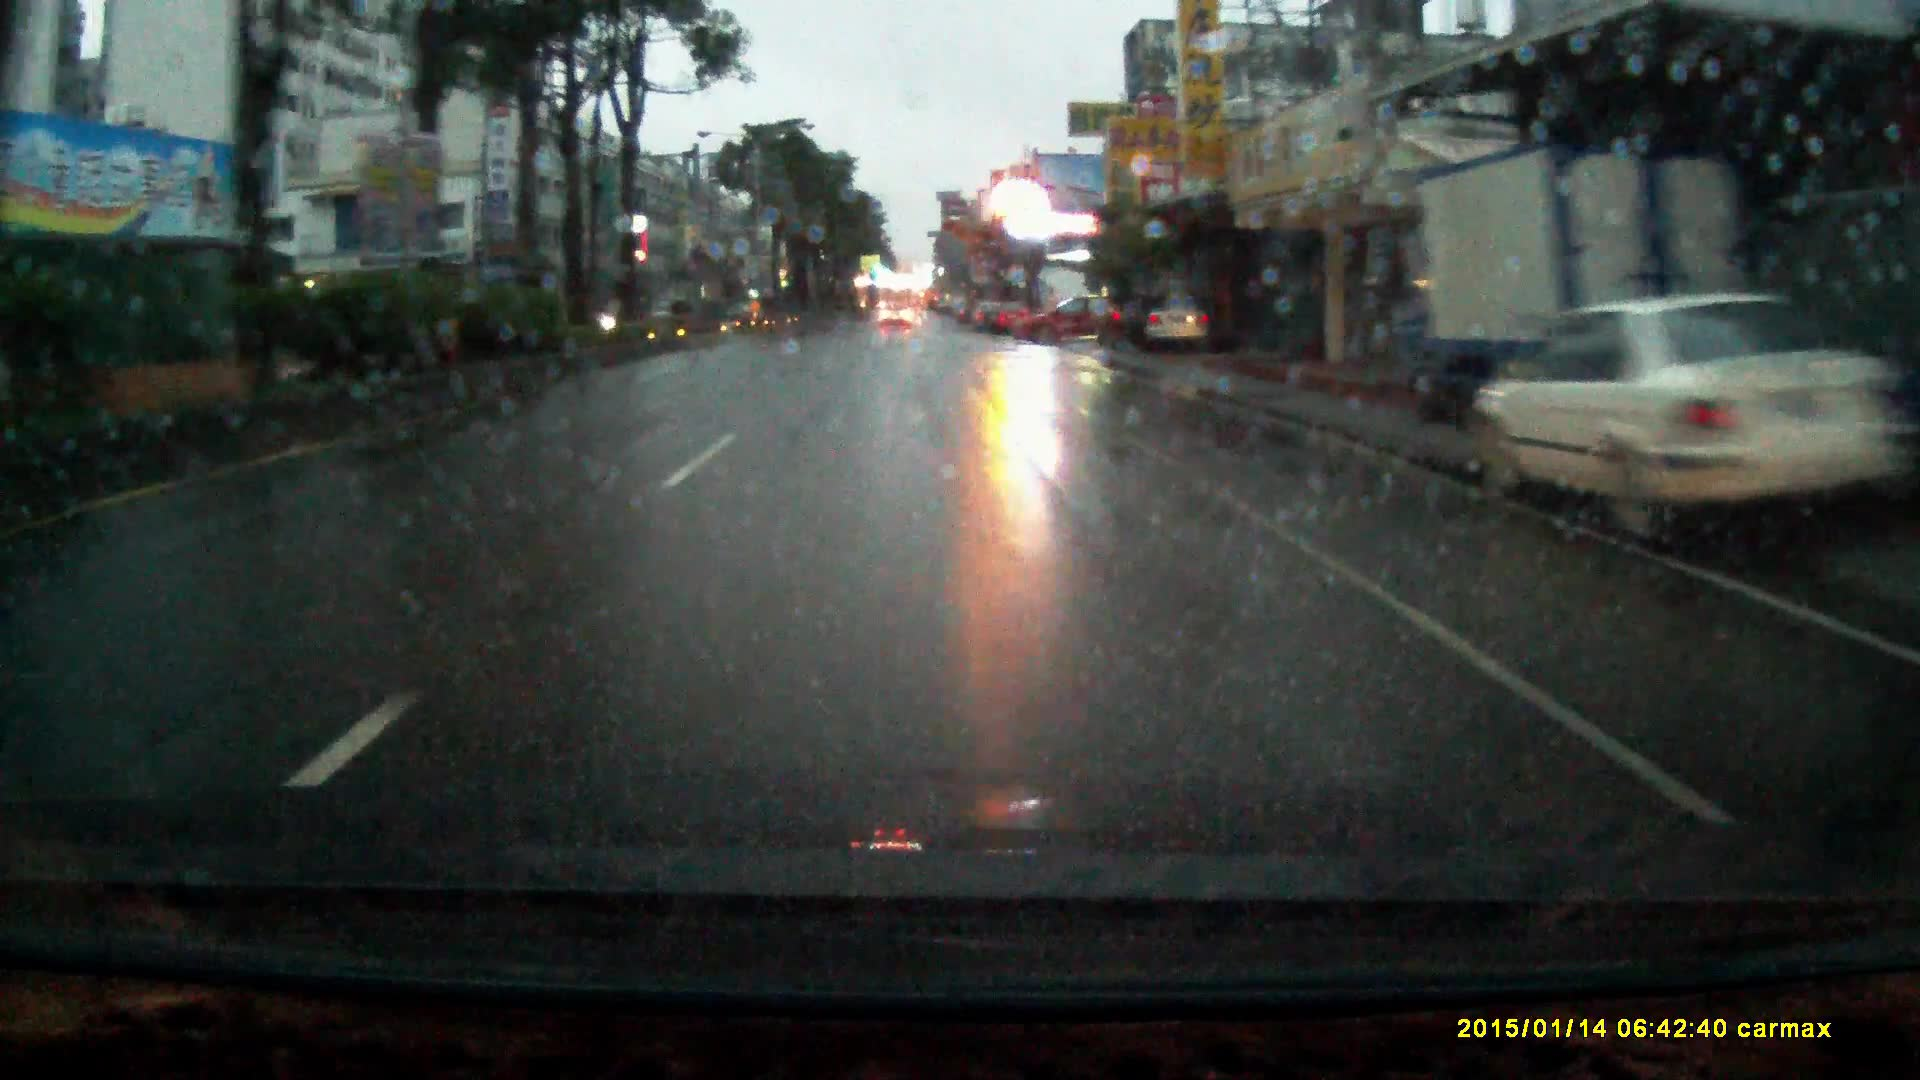vehicle: (1473, 295, 1919, 560), (1385, 113, 1753, 423), (1013, 291, 1122, 344), (1131, 291, 1215, 348), (1095, 293, 1160, 348), (990, 298, 1033, 332), (881, 305, 913, 331)
